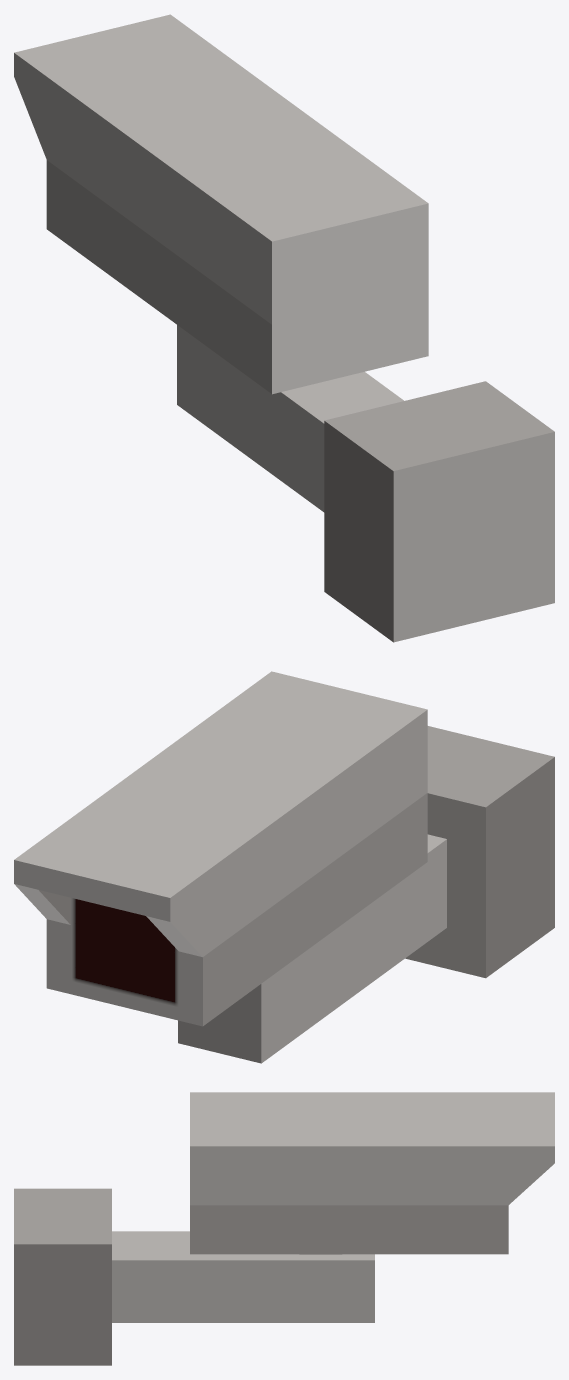
Rendered from SecurityCamera.fbx.
3 views of the same model, one above another, from view 1: azimuth 30°, elevation 25°; view 2: azimuth 150°, elevation 25°; view 3: azimuth 270°, elevation 25° (orthographic). The views are drawn at different scales.
Visible parts, largest first — view 1: Camera, SecurityCamera; view 2: Camera, SecurityCamera; view 3: Camera, SecurityCamera.
Part boxes in pixels (bbox=[...]): Camera: bbox=[14, 14, 428, 394]; SecurityCamera: bbox=[177, 325, 554, 642]; Camera: bbox=[14, 671, 427, 1026]; SecurityCamera: bbox=[178, 726, 554, 1063]; Camera: bbox=[190, 1092, 554, 1254]; SecurityCamera: bbox=[14, 1188, 374, 1365].
Bounding box in the file's own units: 0.2658 × 0.486 × 1.09.
